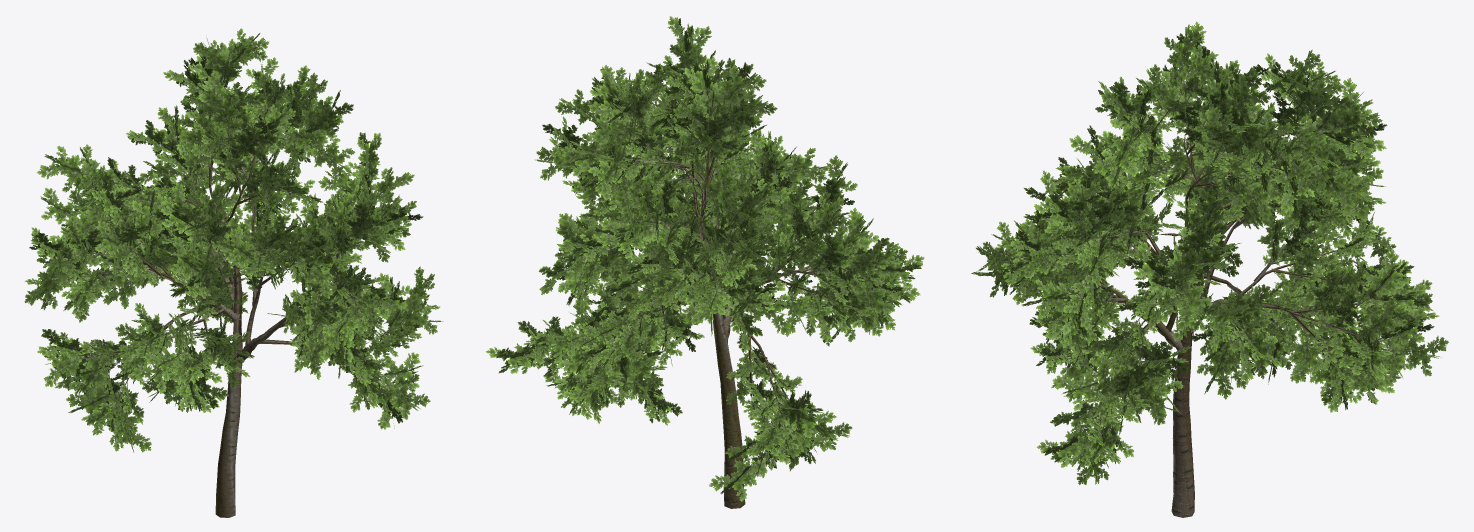
File: medium-b.glb
The picture shows the model from 3 angles, left to right: view 1: azimuth 30°, elevation 25°; view 2: azimuth 150°, elevation 25°; view 3: azimuth 270°, elevation 25°; orthographic projection. The views are drawn at different scales.
Parts seen in each view (by area): view 1: medium-b; view 2: medium-b; view 3: medium-b.
Boxes of the visible parts, x1,y1,x2,y2 form: medium-b: (24, 28, 443, 517); medium-b: (486, 16, 924, 508); medium-b: (971, 21, 1448, 517).
Bounding box in the file's own units: 4.23 × 4.69 × 4.26.
Materials: 2 (2 with a texture image).
